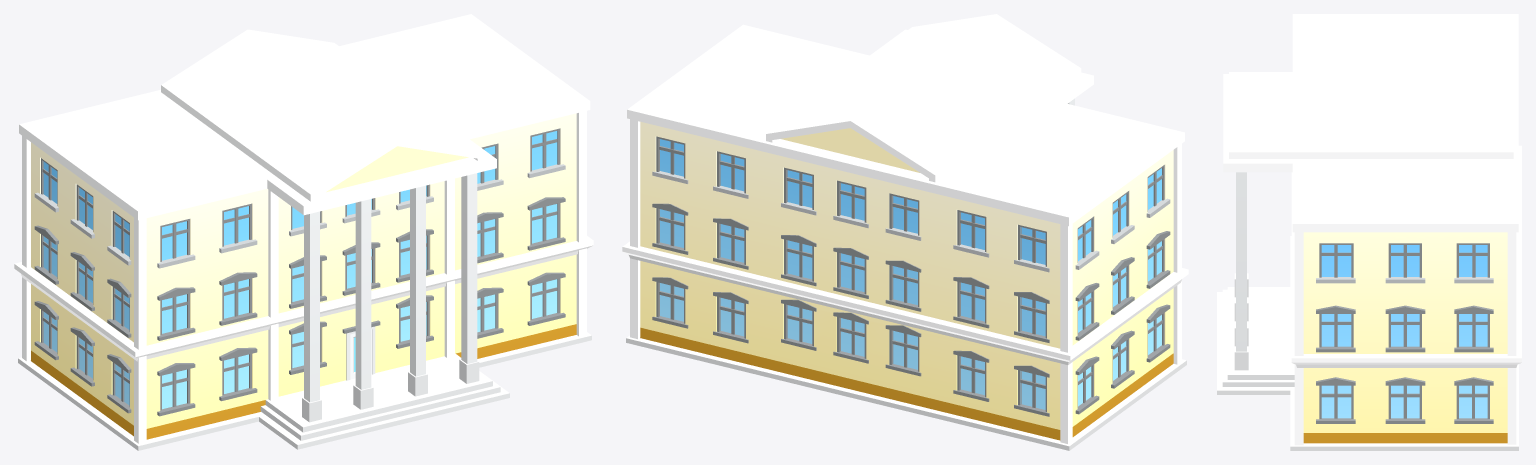
The model's file is Building_State_03.glb.
3 renders of one model, left to right at view 1: azimuth 30°, elevation 25°; view 2: azimuth 150°, elevation 25°; view 3: azimuth 270°, elevation 25°, orthographic. The views are drawn at different scales.
Parts seen in each view (by area): view 1: Building_State_03; view 2: Building_State_03; view 3: Building_State_03.
Part boxes in pixels (bbox=[...]): Building_State_03: bbox=[14, 14, 593, 450]; Building_State_03: bbox=[622, 14, 1188, 450]; Building_State_03: bbox=[1217, 14, 1521, 450].
Size of the model in its own units: 22.71 by 13.27 by 13.76.
1 material, 1 textured.
